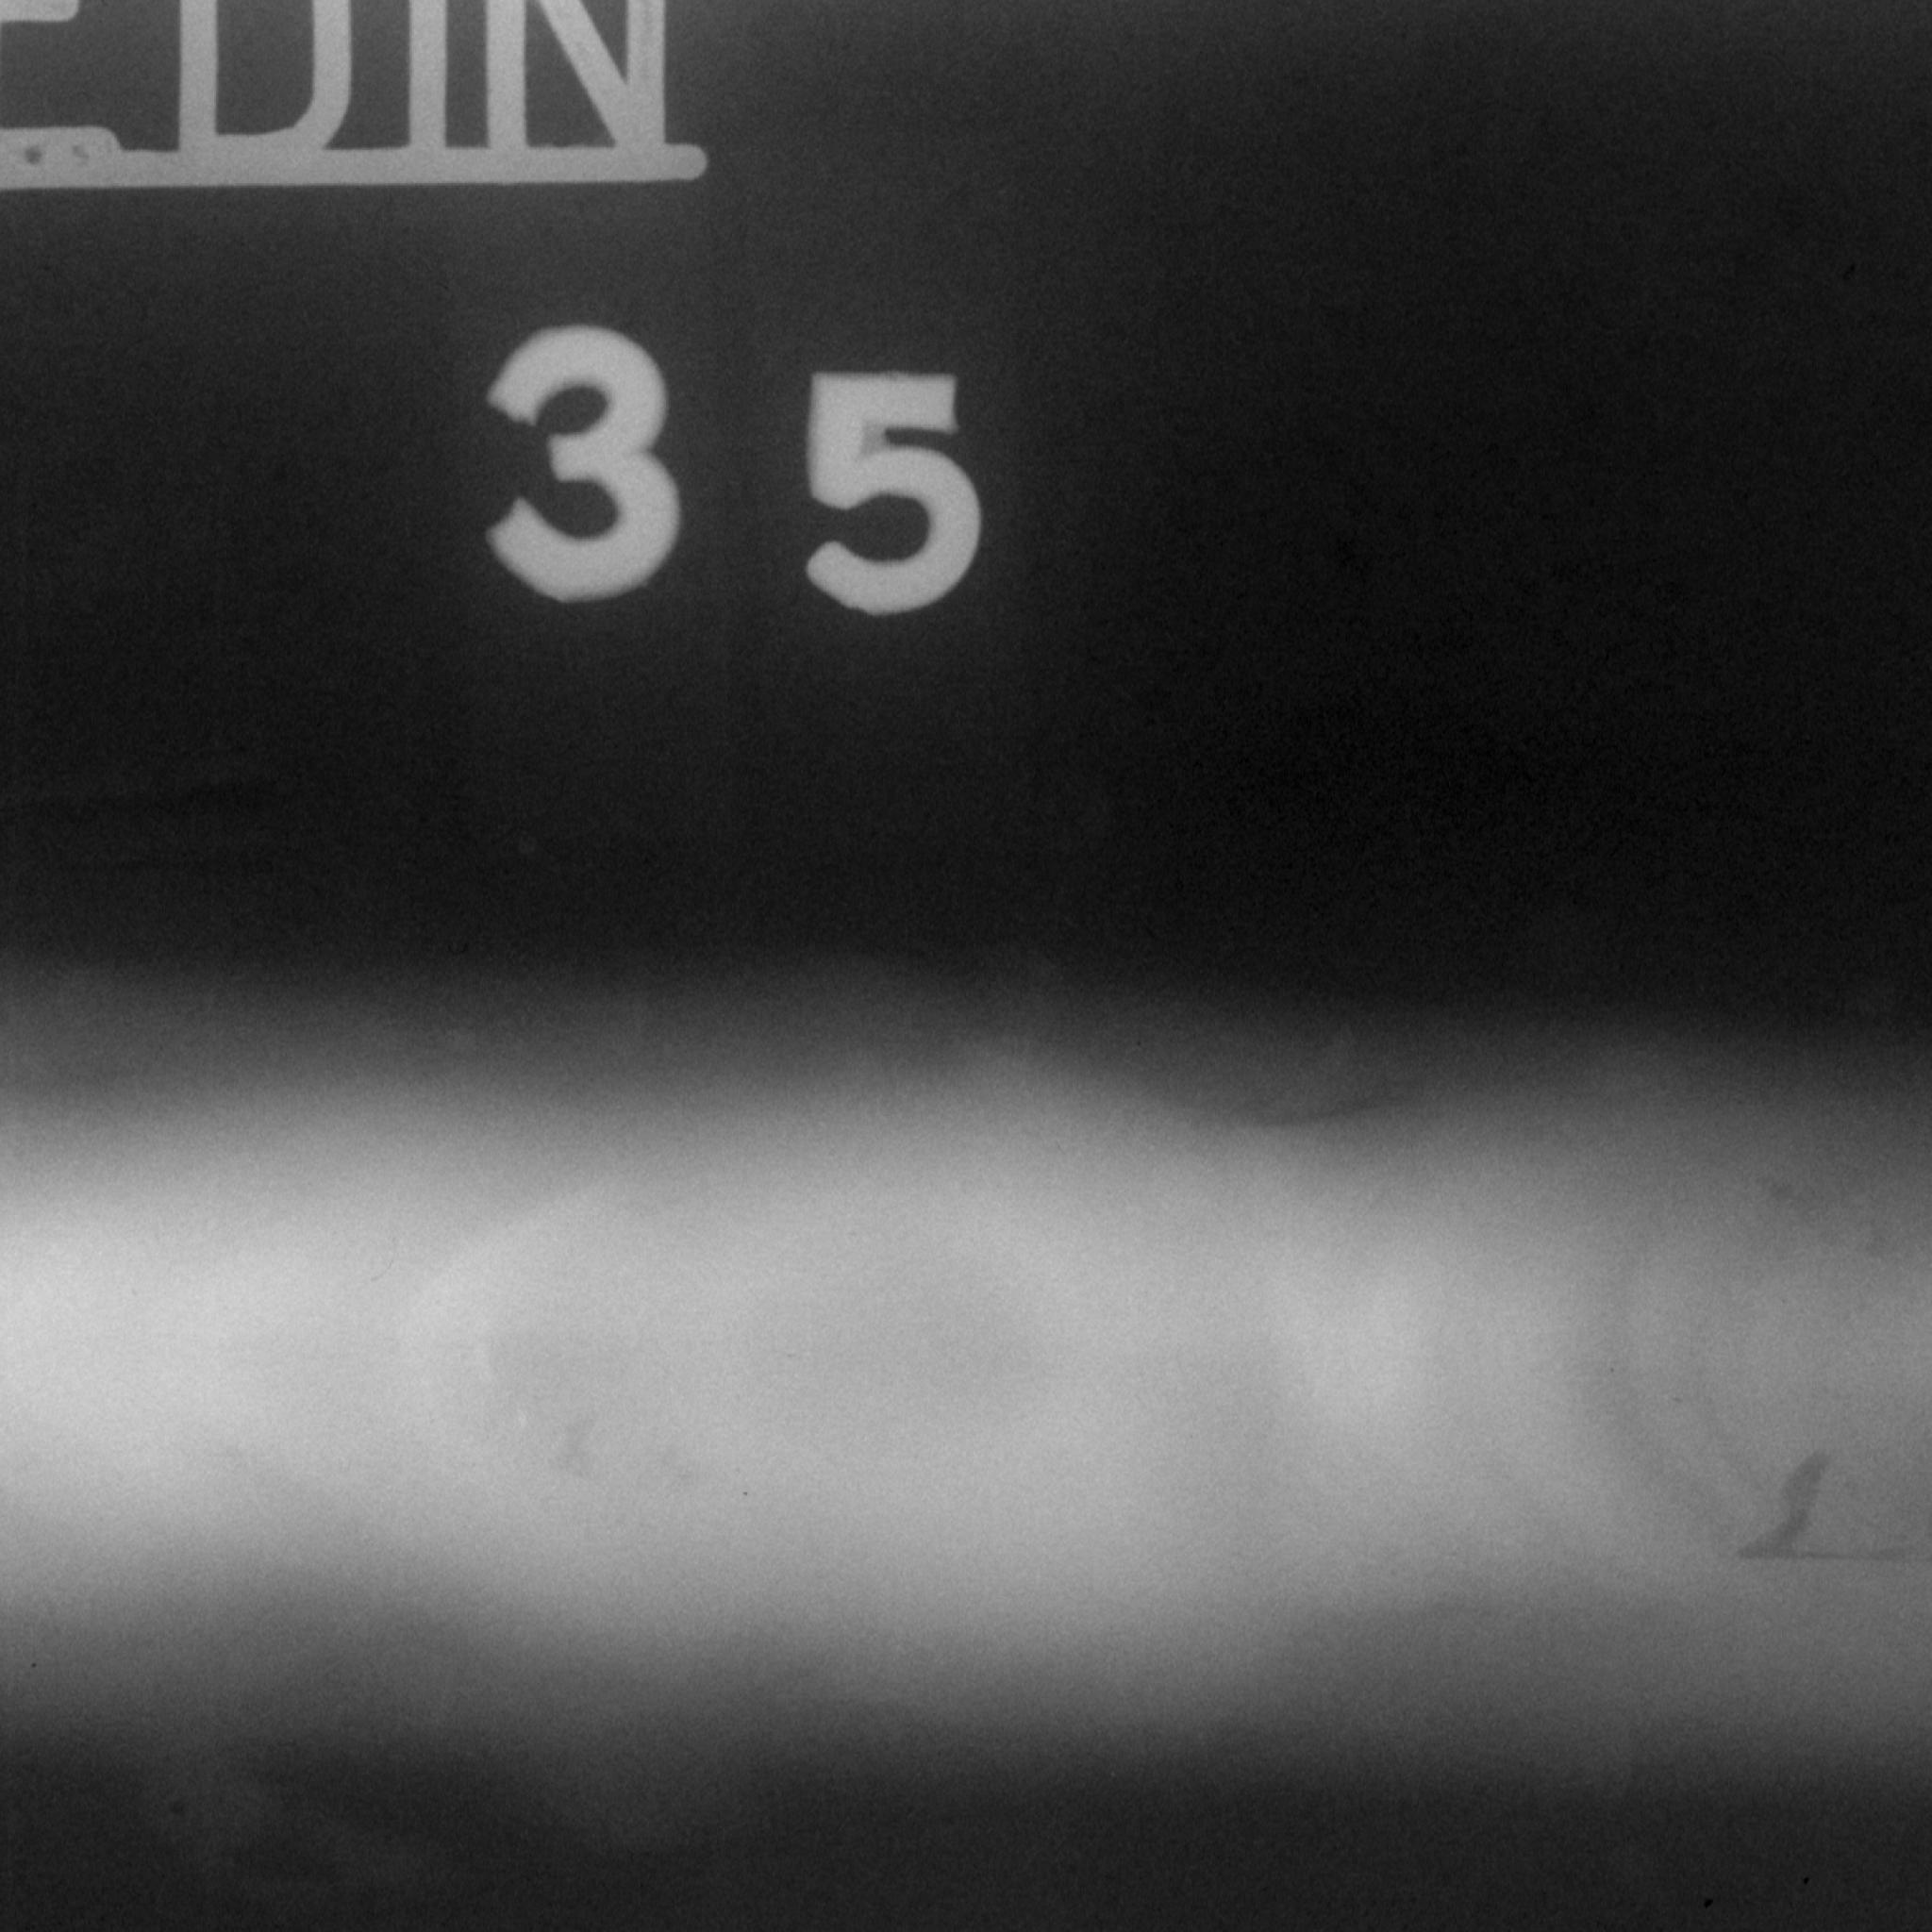IE: (269, 1042, 1932, 1684)
